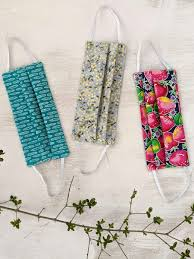cloth_mask: (1, 35, 73, 195)
